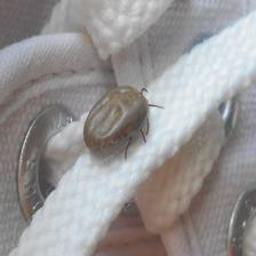Rhipicephalus sanguineus: (82, 87, 165, 161)
